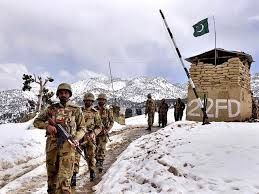gun: (42, 113, 90, 163)
uniform: (39, 98, 83, 189), (92, 103, 114, 174), (79, 104, 98, 179), (137, 89, 157, 130)
